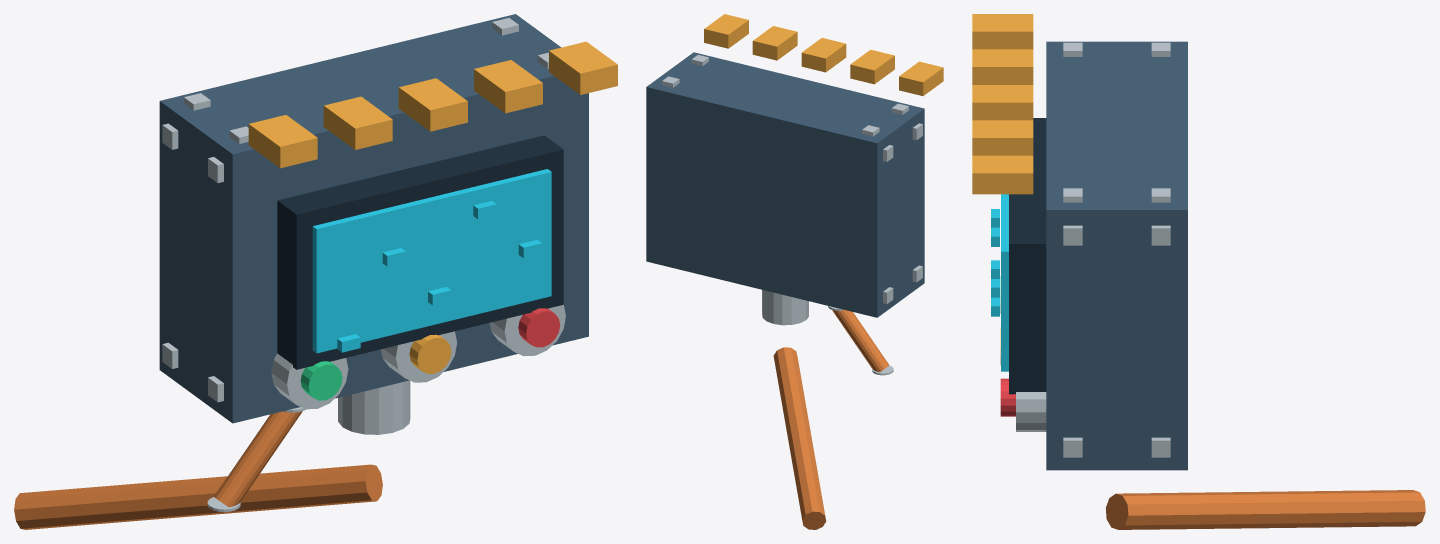
File: 49_L75_ActivationTemperatureSensor.fbx
The picture shows the model from 3 angles, left to right: view 1: azimuth 30°, elevation 25°; view 2: azimuth 150°, elevation 25°; view 3: azimuth 270°, elevation 25°; orthographic projection. The views are drawn at different scales.
Parts seen in each view (by area): view 1: ActivationTemperatureSensor; view 2: ActivationTemperatureSensor; view 3: ActivationTemperatureSensor.
Part boxes in pixels (x1,y1,x2,y2): ActivationTemperatureSensor: [14, 14, 617, 529]; ActivationTemperatureSensor: [646, 14, 943, 529]; ActivationTemperatureSensor: [972, 14, 1425, 529].
Bounding box in the file's own units: 57.87 × 75.78 × 59.49.
